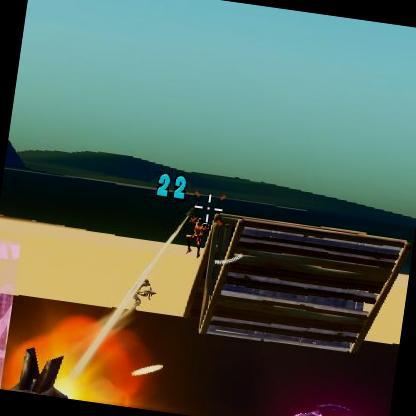person: (181, 214, 203, 257), (132, 279, 160, 312), (188, 218, 206, 256), (155, 172, 170, 198)
